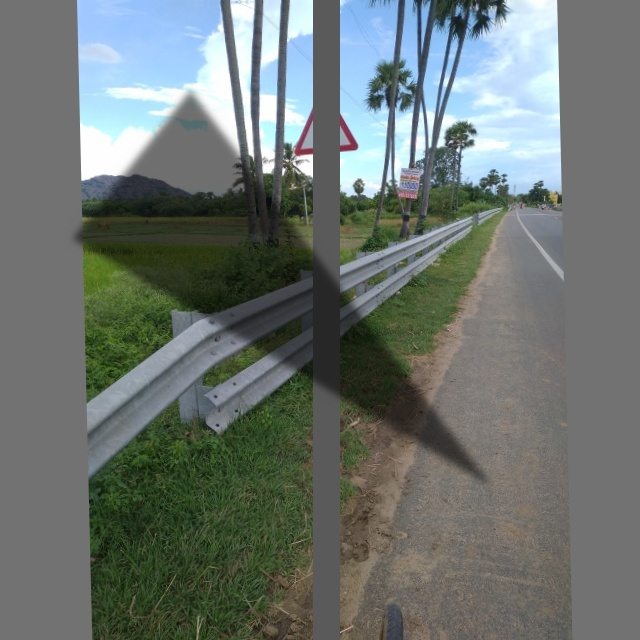Narrow_Bridge: (286, 81, 370, 161)
